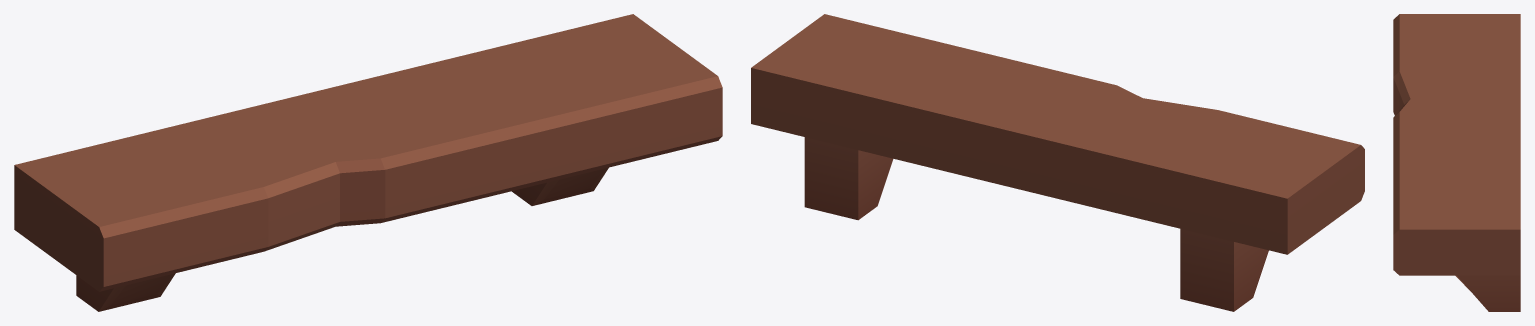
Rendered from shelf-human.glb.
The picture shows the model from 3 angles, left to right: view 1: azimuth 30°, elevation 25°; view 2: azimuth 150°, elevation 25°; view 3: azimuth 270°, elevation 25°; orthographic projection. The views are drawn at different scales.
Parts seen in each view (by area): view 1: shelf-human; view 2: shelf-human; view 3: shelf-human.
Part boxes in pixels (left/top/right/bottom): shelf-human: left=14, top=14, right=722, bottom=311; shelf-human: left=751, top=14, right=1364, bottom=311; shelf-human: left=1393, top=14, right=1520, bottom=311.
Bounding box in the file's own units: 2 × 0.45 × 0.5.
